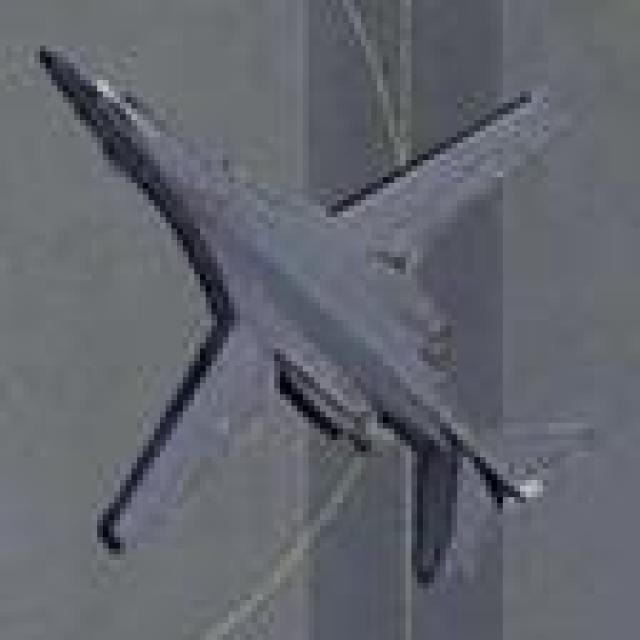B-1_TopDown: (29, 34, 577, 583)
